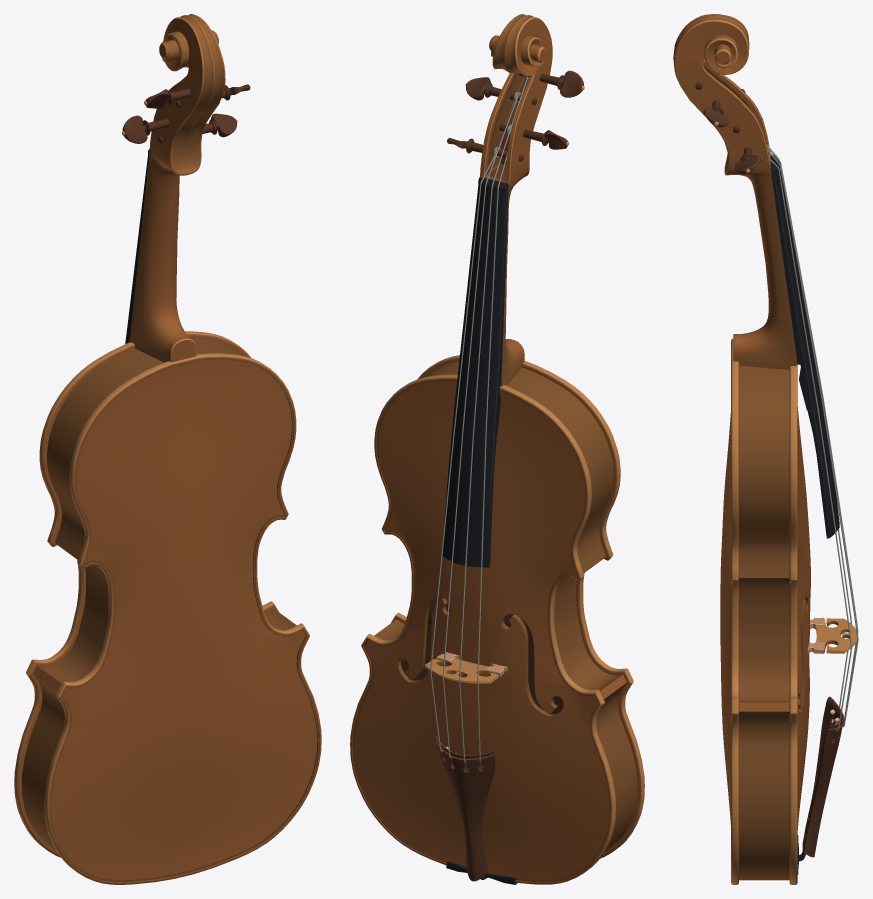
Rendered from violin.fbx.
The picture shows the model from 3 angles, left to right: view 1: azimuth 30°, elevation 25°; view 2: azimuth 150°, elevation 25°; view 3: azimuth 270°, elevation 25°; orthographic projection. The views are drawn at different scales.
Visible parts, largest first — view 1: Cube.005, Cylinder, Cube, Cube.009, Cylinder.011, Cylinder.001; view 2: Cube.005, Cylinder.001, Cube, Cube.009, Cylinder, BezierCurve, Cube.002, Cube.010, Cube.003, Cylinder.009, Cylinder.010, Cylinder.011; view 3: Cube, Cylinder, Cube.009, Cube.005, Cylinder.001, BezierCurve, Cube.002, Cube.003, Cylinder.003, Cylinder.010.
Boxes of the visible parts, left/top/right/bottom form: Cube.005: left=51, top=359, right=317, bottom=880; Cylinder: left=129, top=14, right=225, bottom=362; Cube: left=21, top=338, right=296, bottom=850; Cube.009: left=14, top=331, right=321, bottom=884; Cylinder.011: left=122, top=115, right=169, bottom=143; Cylinder.001: left=125, top=154, right=149, bottom=343; Cube.005: left=354, top=381, right=609, bottom=880; Cylinder.001: left=442, top=184, right=508, bottom=567; Cube: left=374, top=361, right=637, bottom=852; Cube.009: left=350, top=355, right=644, bottom=884; Cylinder: left=480, top=14, right=552, bottom=386; BezierCurve: left=430, top=76, right=529, bottom=762; Cube.002: left=435, top=736, right=495, bottom=881; Cube.010: left=398, top=596, right=563, bottom=716; Cube.003: left=424, top=658, right=499, bottom=683; Cylinder.009: left=519, top=70, right=584, bottom=97; Cylinder.010: left=465, top=77, right=520, bottom=101; Cylinder.011: left=499, top=124, right=569, bottom=149; Cube: left=739, top=362, right=789, bottom=880; Cylinder: left=673, top=14, right=797, bottom=369; Cube.009: left=731, top=338, right=797, bottom=884; Cube.005: left=720, top=407, right=810, bottom=829; Cylinder.001: left=771, top=169, right=839, bottom=538; BezierCurve: left=766, top=144, right=858, bottom=731; Cube.002: left=803, top=696, right=843, bottom=857; Cube.003: left=816, top=618, right=857, bottom=653; Cylinder.003: left=735, top=146, right=761, bottom=174; Cylinder.010: left=703, top=100, right=729, bottom=127.
Bounding box in the file's own units: 91.59 × 278 × 54.91.
